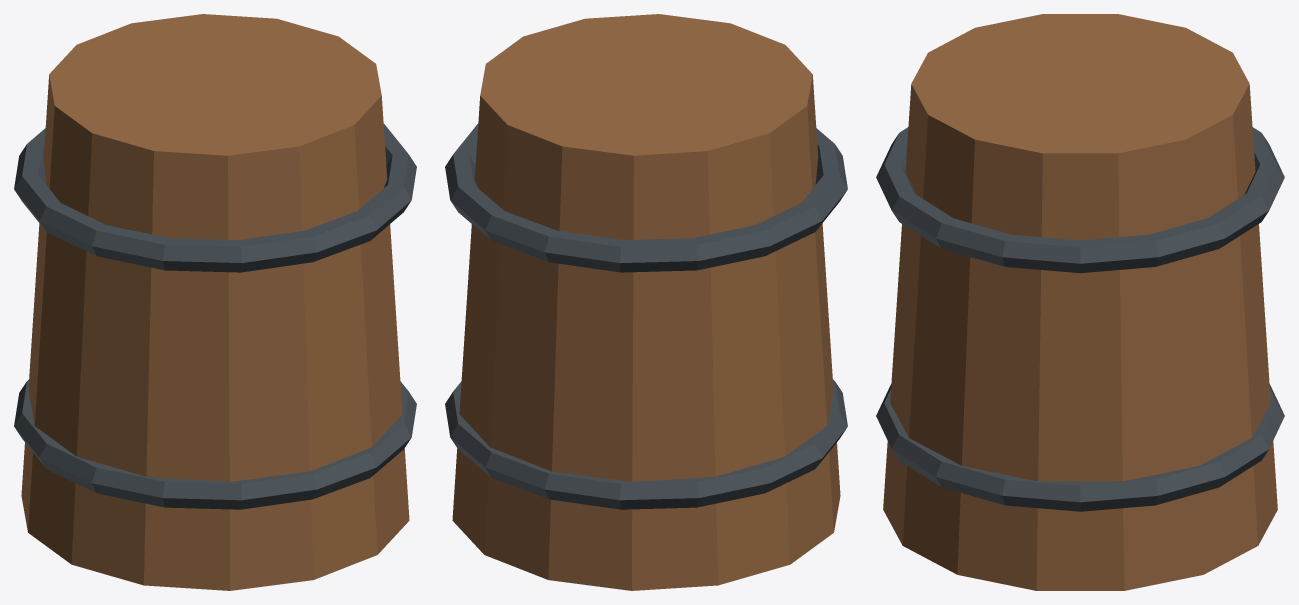
The model's file is barrel.glb.
3 views of the same model, side by side, from view 1: azimuth 30°, elevation 25°; view 2: azimuth 150°, elevation 25°; view 3: azimuth 270°, elevation 25° (orthographic).
Visible parts, largest first — view 1: barrel; view 2: barrel; view 3: barrel.
Part boxes in pixels (left/top/right/bottom): barrel: left=14, top=14, right=416, bottom=590; barrel: left=445, top=14, right=847, bottom=590; barrel: left=876, top=14, right=1284, bottom=590.
Size of the model in its own units: 0.87 by 1 by 0.87.
